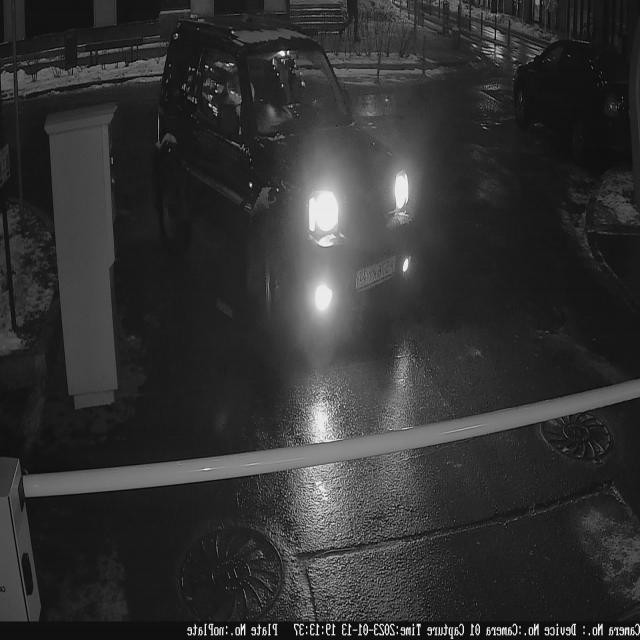car-plate-numbers: (355, 253, 399, 295)
